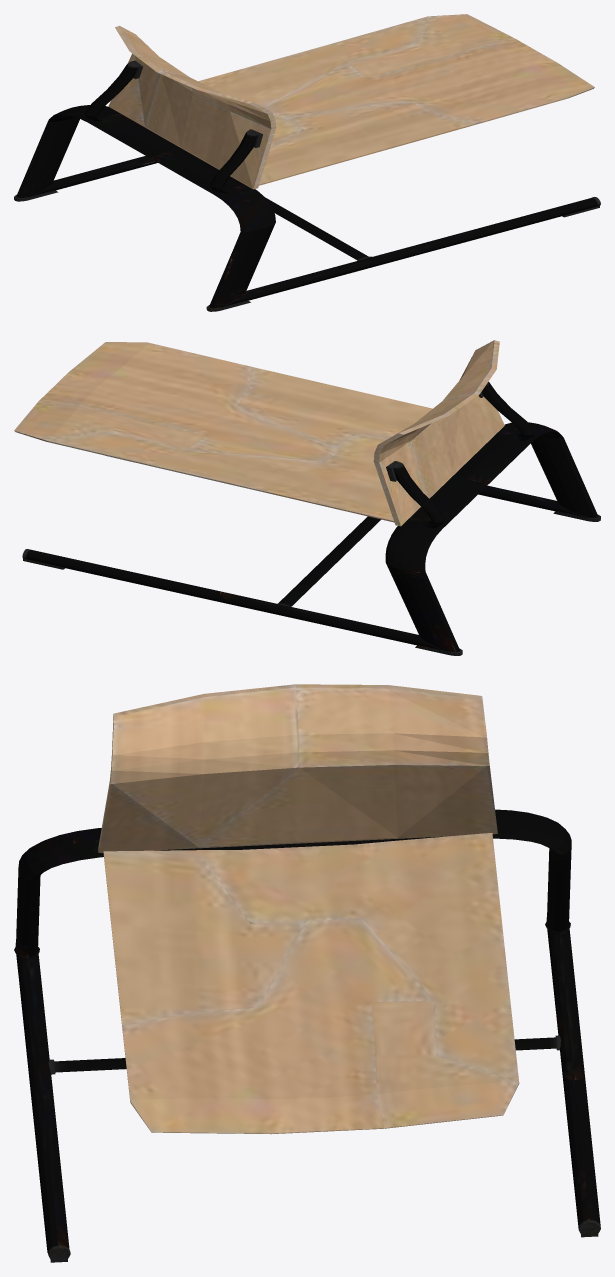
Rendered from whiteboard_1.glb.
3 views of the same model, one above another, from view 1: azimuth 30°, elevation 25°; view 2: azimuth 150°, elevation 25°; view 3: azimuth 270°, elevation 25° (orthographic). The views are drawn at different scales.
Visible parts, largest first — view 1: whiteboard_1; view 2: whiteboard_1; view 3: whiteboard_1.
Boxes of the visible parts, box(x1,y1,x2,y2) form: whiteboard_1: box(14, 14, 600, 311); whiteboard_1: box(14, 340, 600, 655); whiteboard_1: box(14, 684, 600, 1262).
Size of the model in its own units: 3.64 by 1.3 by 2.46.
Materials: 1 (1 with a texture image).
